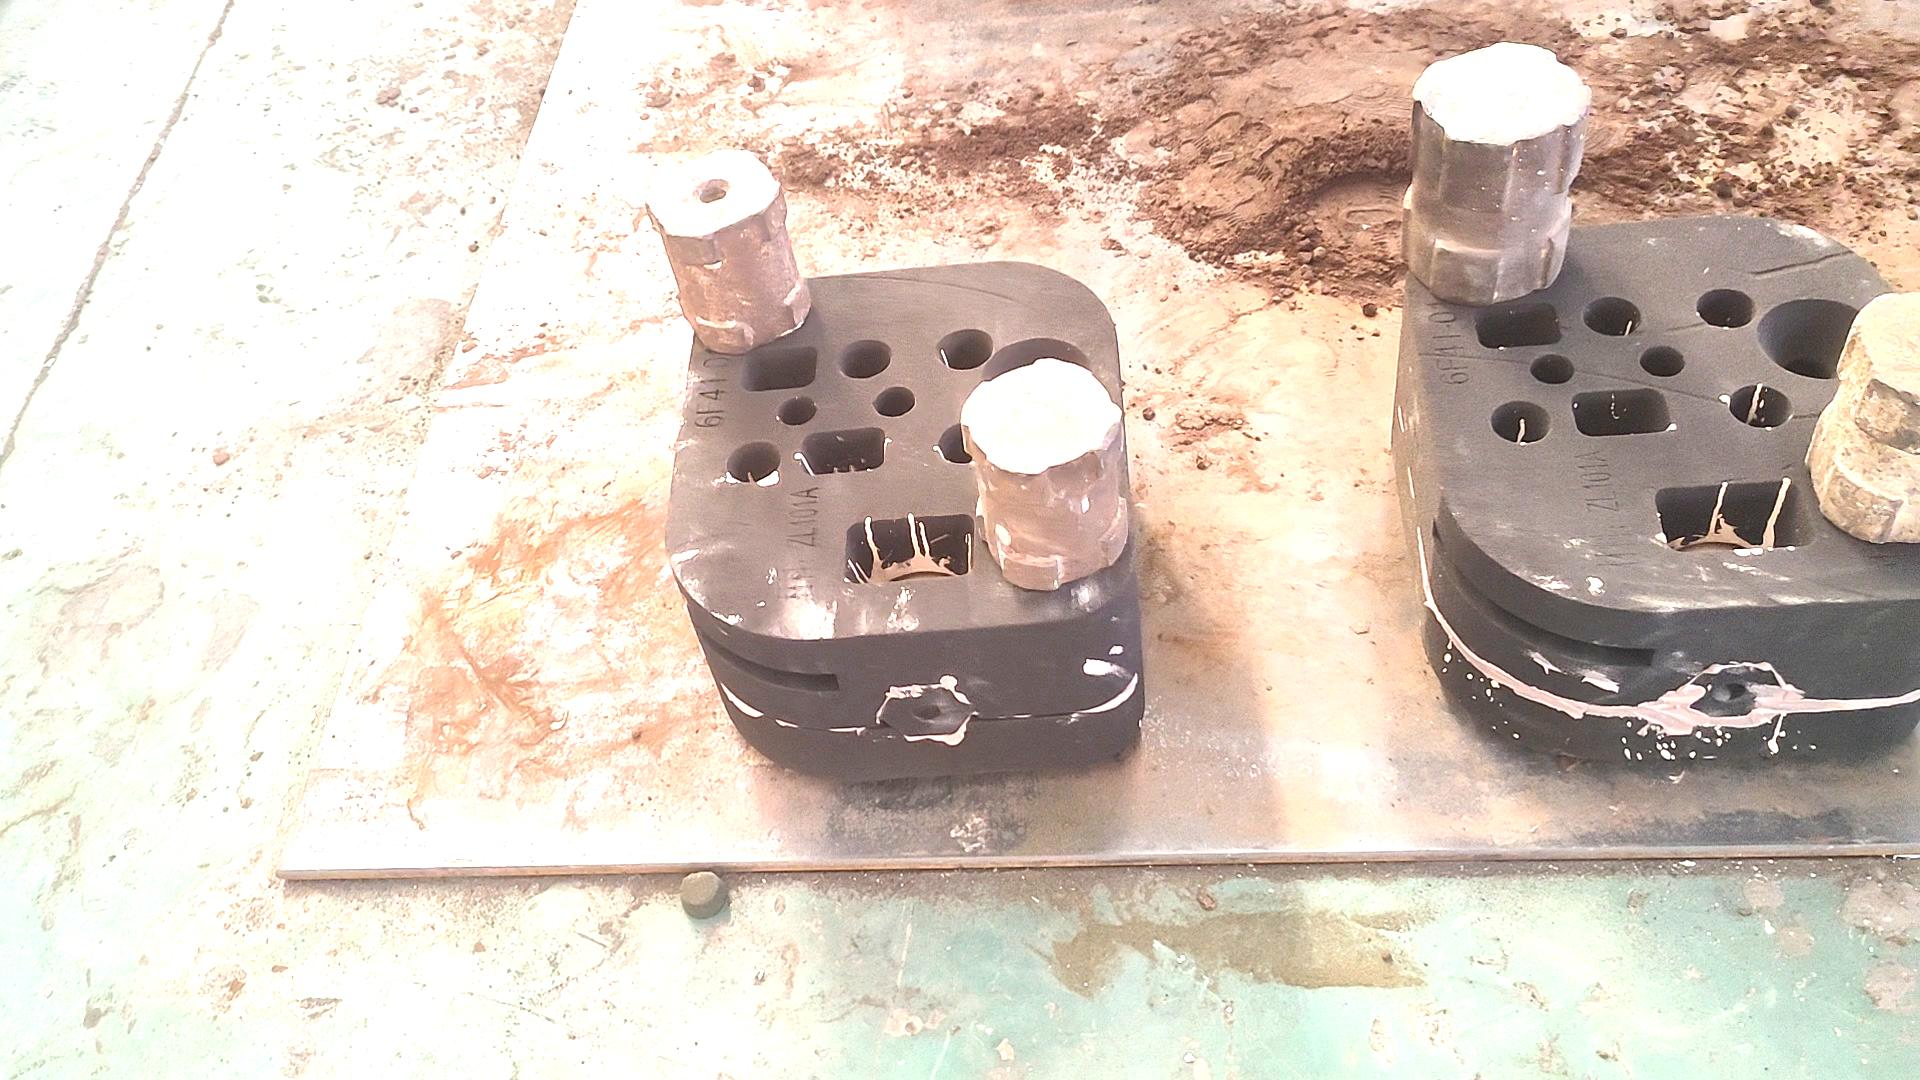pouring hole: (1753, 295, 1880, 382), (982, 336, 1100, 415)
